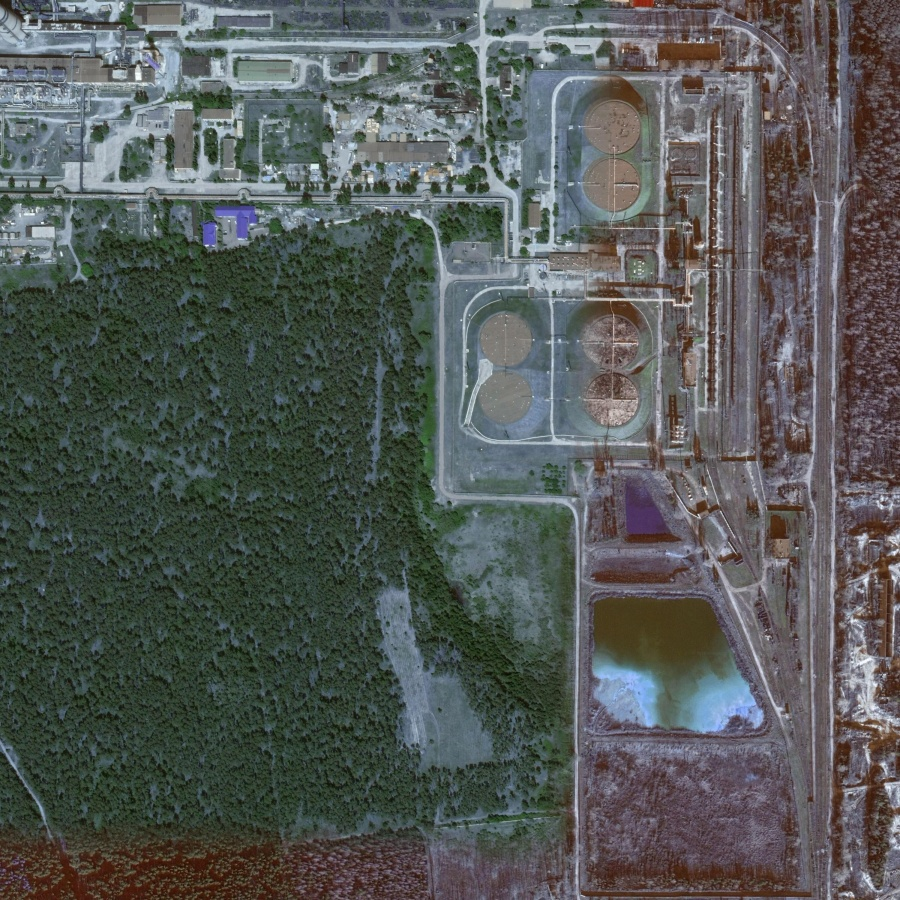PowerPlant: (439, 88, 687, 452)
